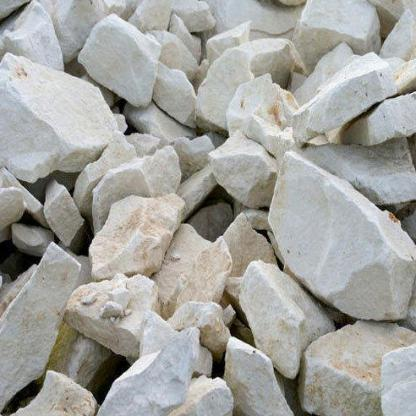Sedimentary_Limestone: (262, 149, 415, 320), (1, 43, 126, 184), (1, 247, 90, 415), (288, 42, 410, 142), (73, 188, 195, 282), (200, 42, 314, 142), (114, 307, 214, 415), (66, 13, 161, 116)
